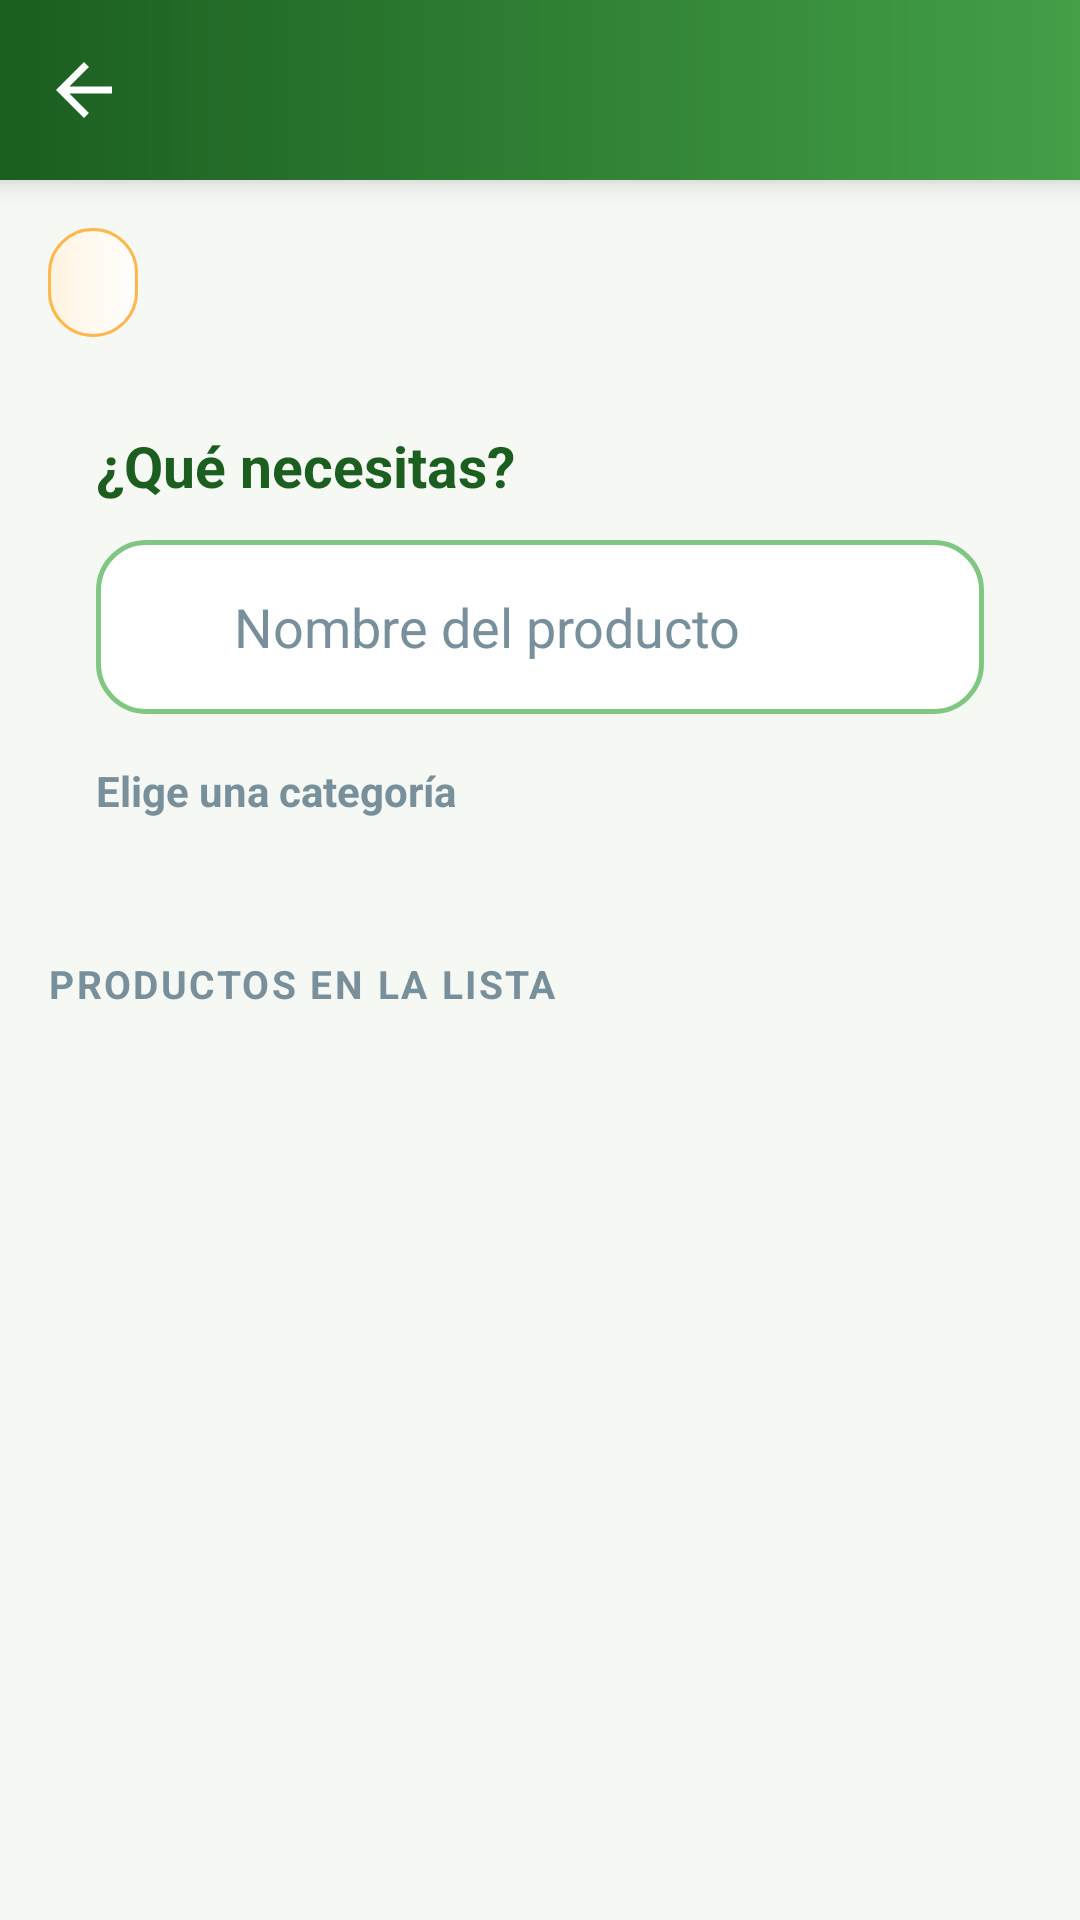

Screen size 1080 x 1920. Icon name, then its center in pixels as [x,y]:
Volver: [84,90]
